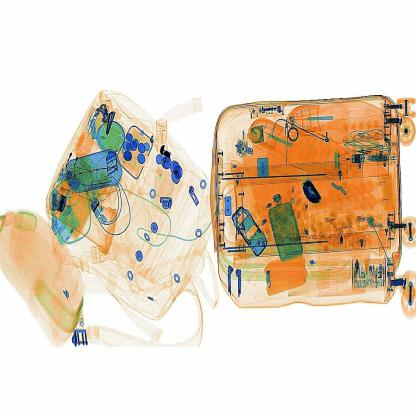scissors: (294, 170, 329, 212)
